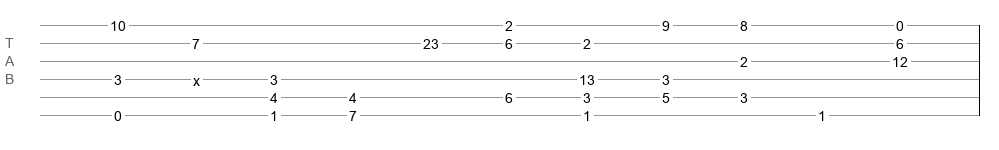0: (114, 108, 122, 118), (896, 18, 904, 28)
1: (270, 108, 278, 118), (583, 108, 591, 118), (818, 108, 826, 118)
10: (110, 18, 126, 28)
12: (892, 54, 908, 64)
13: (579, 72, 595, 82)
2: (505, 18, 513, 28), (583, 36, 591, 46), (740, 54, 748, 64)
23: (423, 36, 439, 46)
3: (114, 72, 122, 82), (270, 72, 278, 82), (583, 90, 591, 100), (662, 72, 670, 82), (740, 90, 748, 100)
4: (270, 90, 278, 100), (349, 90, 357, 100)
5: (662, 90, 670, 100)
6: (505, 36, 513, 46), (505, 90, 513, 100), (896, 36, 904, 46)
7: (192, 36, 200, 46), (349, 108, 357, 118)
8: (740, 18, 748, 28)
9: (662, 18, 670, 28)
x: (193, 73, 200, 81)
